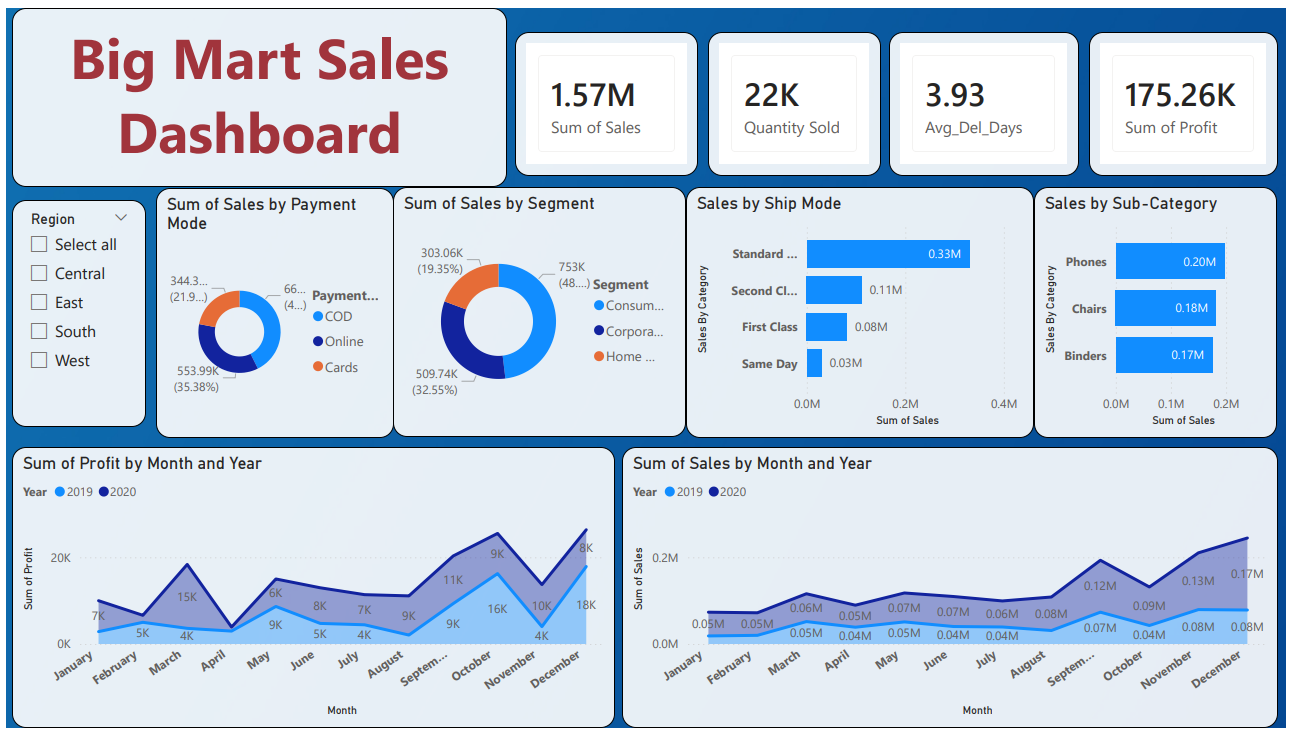

The page's visual inventory and layout, read from the dashboard file:
{"tool":"powerbi","page":{"name":"Page 1","canvas":[1280,720],"ordinal":0},"visuals":[{"type":"clusteredBarChart","title":"Sales by Sub-Category","fields":{"Category":["SuperStore_Sales_Dataset.Sub-Category"],"Y":["Sum(SuperStore_Sales_Dataset.Sales)"]},"box":[1027.5,178.8,243.8,251.2],"z":0},{"type":"clusteredBarChart","title":"Sales by Ship Mode","fields":{"Category":["SuperStore_Sales_Dataset.Ship Mode"],"Y":["Sum(SuperStore_Sales_Dataset.Sales)"]},"box":[680,178.8,347.5,251.2],"z":1000},{"type":"stackedAreaChart","fields":{"Category":["SuperStore_Sales_Dataset.Order Date.Variation.Date Hierarchy.Month"],"Series":["SuperStore_Sales_Dataset.Order Date.Variation.Date Hierarchy.Year"],"Y":["Sum(SuperStore_Sales_Dataset.Sales)"]},"box":[616.5,439.1,655.1,281.1],"z":2000},{"type":"stackedAreaChart","fields":{"Category":["SuperStore_Sales_Dataset.Order Date.Variation.Date Hierarchy.Month"],"Series":["SuperStore_Sales_Dataset.Order Date.Variation.Date Hierarchy.Year"],"Y":["Sum(SuperStore_Sales_Dataset.Profit)"]},"box":[6,439.1,603.2,281.1],"z":3000},{"type":"donutChart","fields":{"Category":["SuperStore_Sales_Dataset.Segment"],"Y":["Sum(SuperStore_Sales_Dataset.Sales)"]},"box":[387.3,178.6,293.2,250.9],"z":4000},{"type":"donutChart","fields":{"Category":["SuperStore_Sales_Dataset.Payment Mode"],"Y":["Sum(SuperStore_Sales_Dataset.Sales)"]},"box":[150,180,237.5,250],"z":5000},{"type":"slicer","fields":{"Values":["SuperStore_Sales_Dataset.Region"]},"box":[6,191.8,133.9,226.8],"z":6000},{"type":"cardVisual","title":"Sum Of Sales","fields":{"Data":["Sum(SuperStore_Sales_Dataset.Sales)"]},"box":[509.1,24.1,183.4,143.6],"z":7001},{"type":"cardVisual","fields":{"Data":["Avg(SuperStore_Sales_Dataset.Average Delivery)"]},"box":[883.1,24.1,189.4,143.6],"z":7002},{"type":"cardVisual","fields":{"Data":["Sum(SuperStore_Sales_Dataset.Quantity)"]},"box":[702.1,24.1,172.5,143.6],"z":7003},{"type":"cardVisual","fields":{"Data":["Sum(SuperStore_Sales_Dataset.Profit)"]},"box":[1083.4,24.1,188.2,143.6],"z":7004},{"type":"textbox","box":[6,0,494.6,178.6],"z":7005}]}

Visuals, with their boxes in screenshot pixels (x1, y1, x2, y2), scaled from the page's 1280x720 canvas onto the 1293x737 screenshot:
"Sales by Sub-Category" clusteredBarChart: Rect(1038, 183, 1284, 440)
"Sales by Ship Mode" clusteredBarChart: Rect(687, 183, 1038, 440)
stackedAreaChart - SuperStore_Sales_Dataset.Order Date.Variation.Date Hierarchy.Month x SuperStore_Sales_Dataset.Order Date.Variation.Date Hierarchy.Year: Rect(623, 449, 1285, 736)
stackedAreaChart - SuperStore_Sales_Dataset.Order Date.Variation.Date Hierarchy.Month x SuperStore_Sales_Dataset.Order Date.Variation.Date Hierarchy.Year: Rect(6, 449, 615, 736)
donutChart - SuperStore_Sales_Dataset.Segment x Sum(SuperStore_Sales_Dataset.Sales): Rect(391, 183, 687, 440)
donutChart - SuperStore_Sales_Dataset.Payment Mode x Sum(SuperStore_Sales_Dataset.Sales): Rect(152, 184, 391, 440)
slicer - SuperStore_Sales_Dataset.Region: Rect(6, 196, 141, 428)
"Sum Of Sales" cardVisual: Rect(514, 25, 700, 172)
cardVisual - Avg(SuperStore_Sales_Dataset.Average Delivery): Rect(892, 25, 1083, 172)
cardVisual - Sum(SuperStore_Sales_Dataset.Quantity): Rect(709, 25, 883, 172)
cardVisual - Sum(SuperStore_Sales_Dataset.Profit): Rect(1094, 25, 1285, 172)
textbox: Rect(6, 0, 506, 183)
